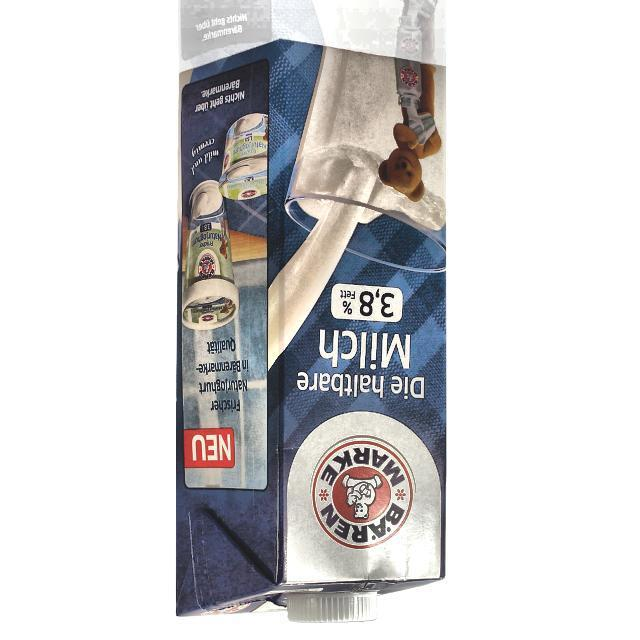cardboard: (175, 38, 448, 623)
